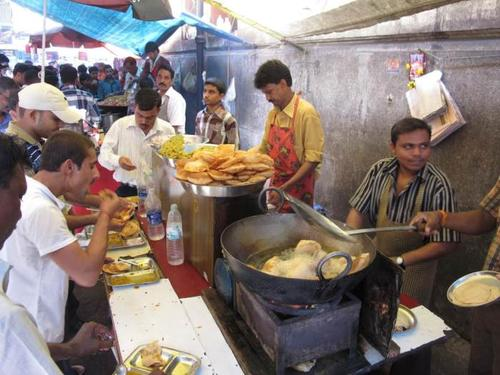no_mask: (40, 129, 100, 207), (385, 114, 433, 172), (252, 59, 295, 109), (130, 89, 162, 132), (200, 74, 228, 109), (152, 64, 175, 91)
